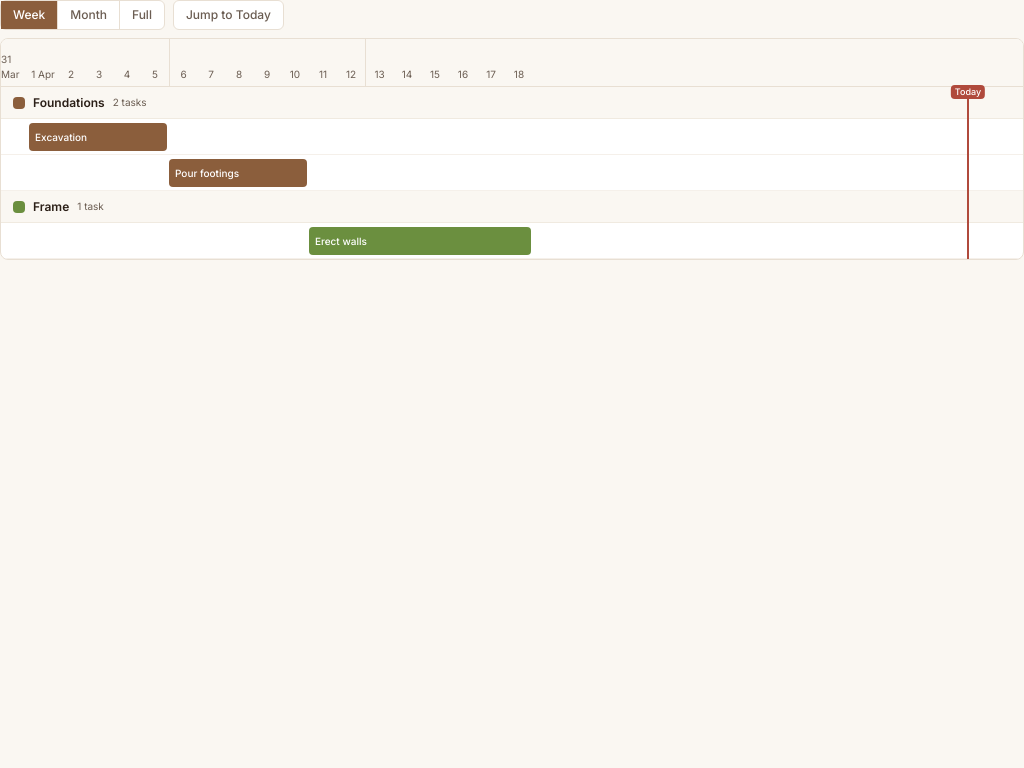
Test: GanttChart click → detail panel — AC-GE-3 › closes detail panel when close button is clicked
The width and height of the screenshot is (1024, 768).
Click the element with test id "gantt-bar-task-1": (98, 137) [29,123,167,151]
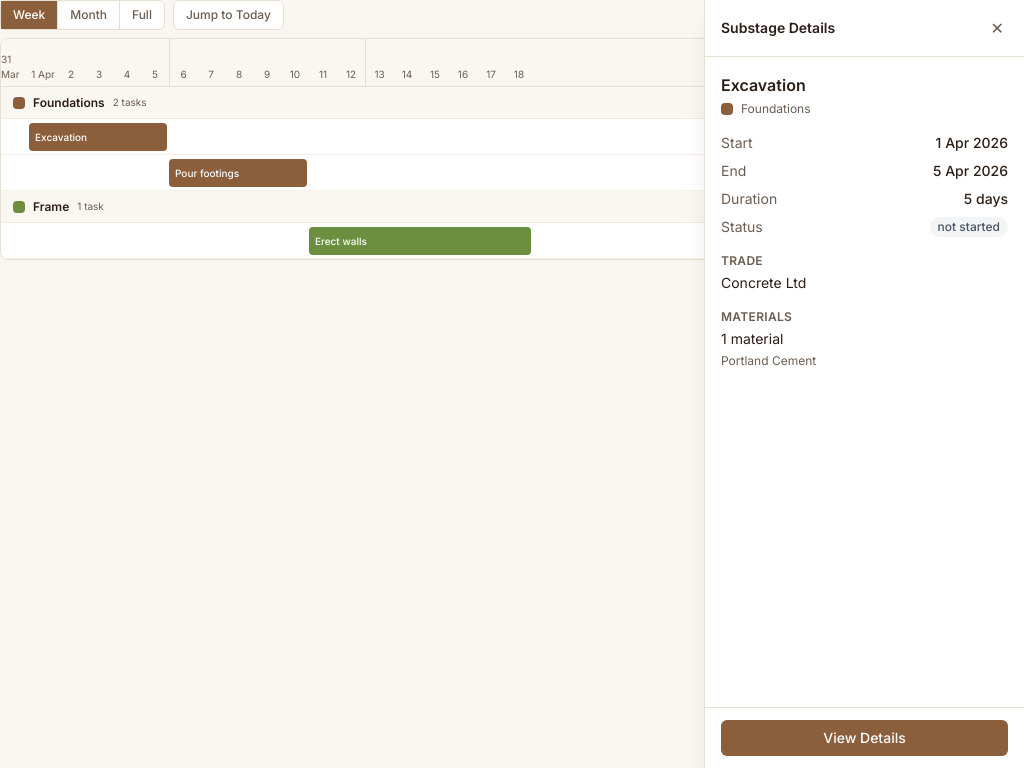
expect the dialog with test id "task-detail-panel" is shown: met, box [704,0,1023,767]
Click the button with test id "task-detail-close": (997, 28) [987,12,1008,44]
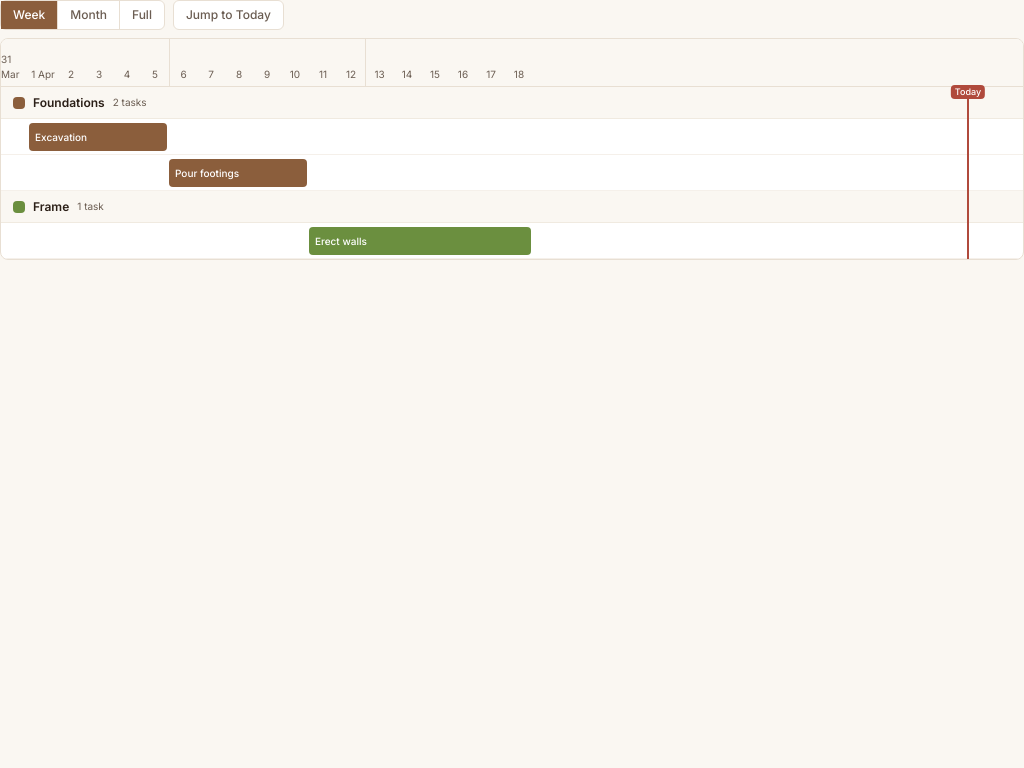
expect the dialog with test id "task-detail-panel" is gone: met
